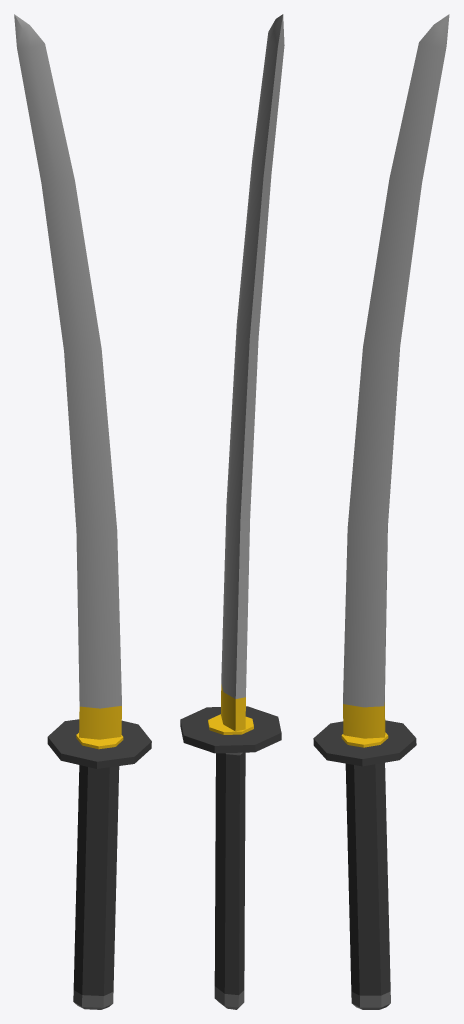
File: Katana_ML.glb
The picture shows the model from 3 angles, left to right: view 1: azimuth 90°, elevation 25°; view 2: azimuth 210°, elevation 25°; view 3: azimuth 270°, elevation 25°; orthographic projection. The views are drawn at different scales.
Visible parts, largest first — view 1: Katana; view 2: Katana; view 3: Katana.
Part boxes in pixels (box(x1,y1,x2,y2)): Katana: box(14, 14, 151, 1009); Katana: box(180, 14, 284, 1009); Katana: box(313, 14, 449, 1009).
Bounding box in the file's own units: 0.1407 × 1.49 × 0.1857.
Materials: 1 (1 with a texture image).
